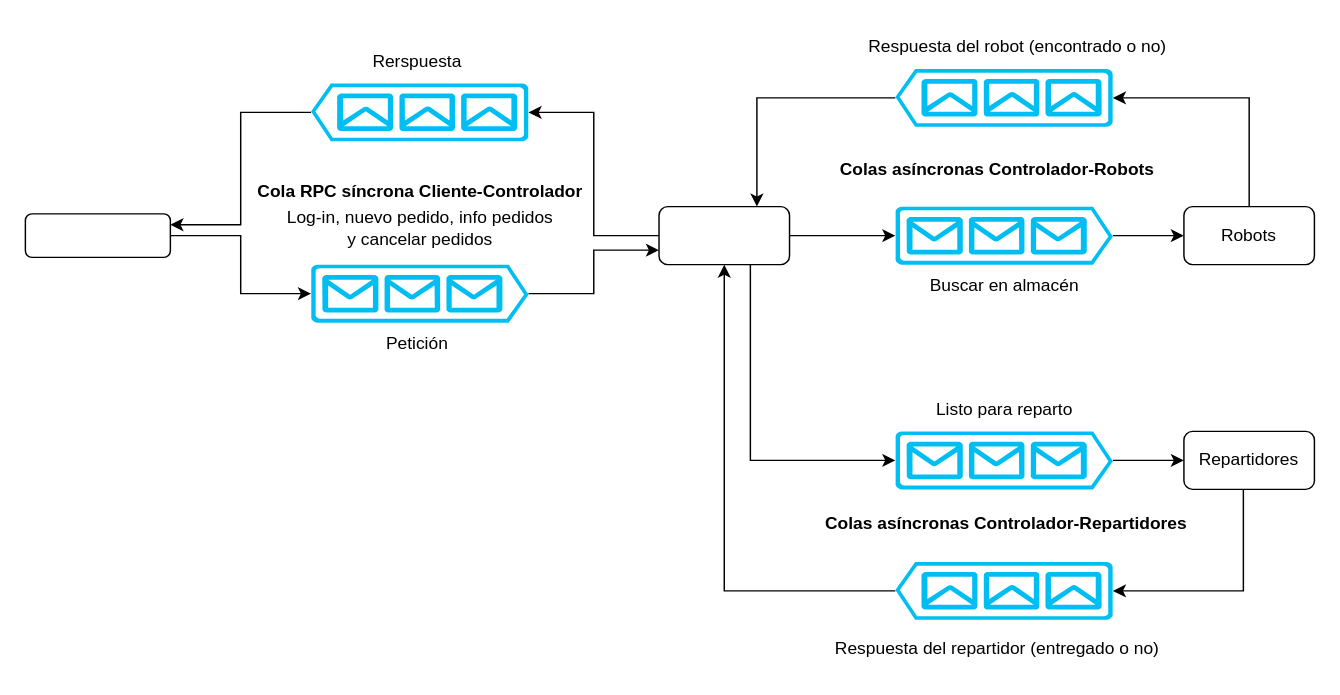
The diagram is 1340 pixels wide and 695 high, and some of its shapes have lost their labels. Here are the shapes that lost their labels. From the top down, the centre of each, then its label:
the point at 97,234: Cliente
the point at 724,235: Controlador
